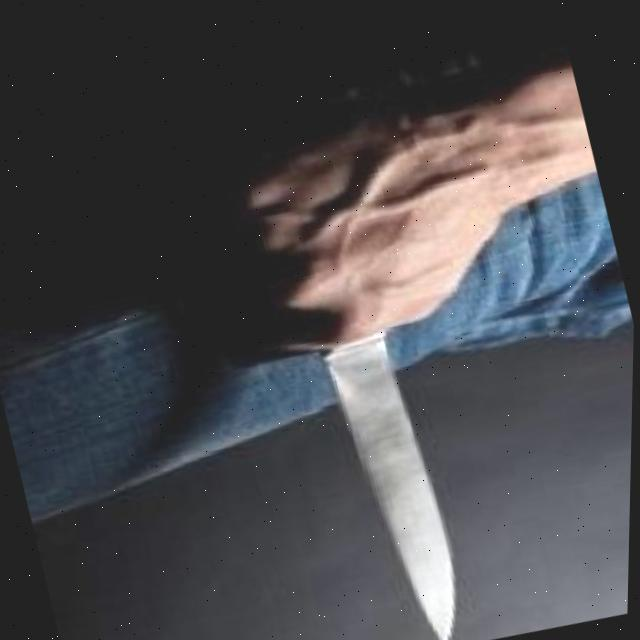knife: (206, 63, 486, 640)
